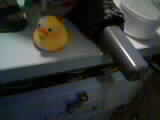duck: (23, 14, 68, 57)
